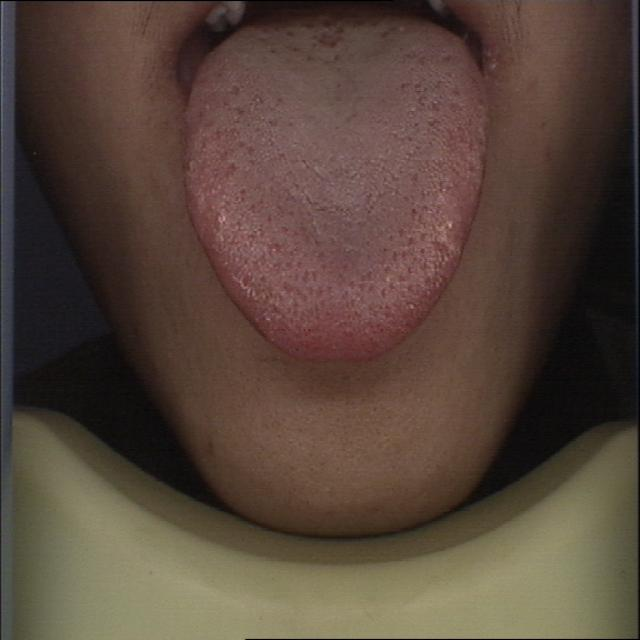tongue: (184, 18, 496, 370)
